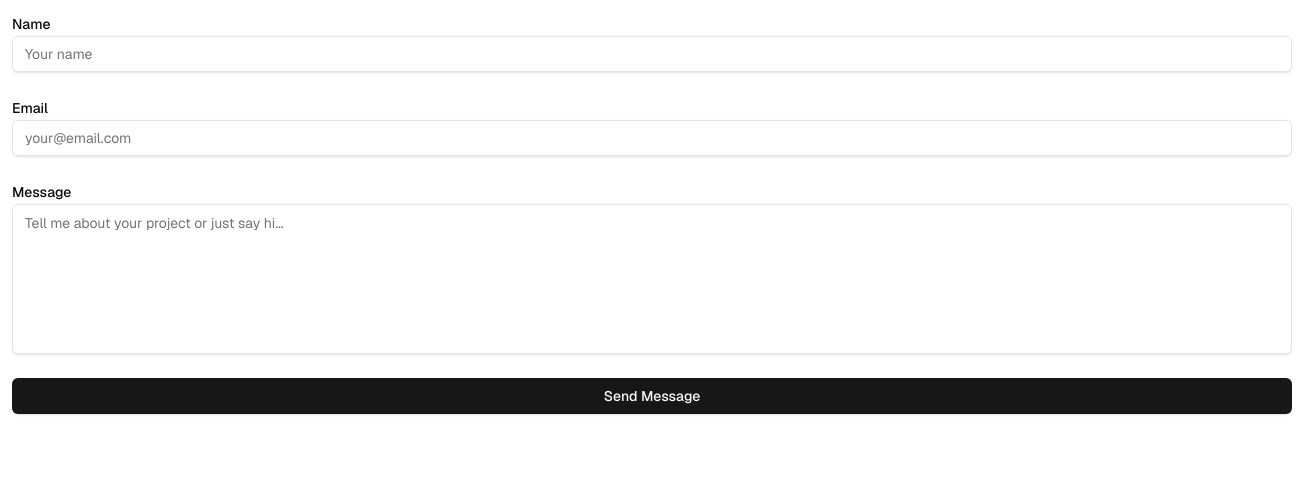
Test: ContactForm › should display rate limit error message
# Fill out form
Type "John Doe" into the field labelled "Name" at (652, 54), box [12, 36, 1292, 72]
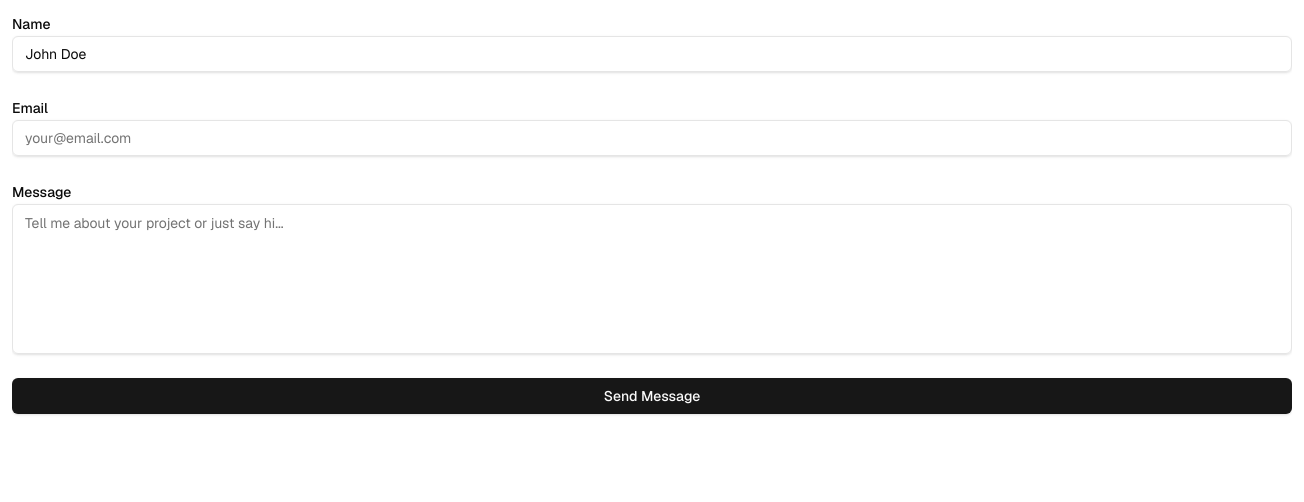
Type "john@example.com" into the field labelled "Email" at (652, 138), box [12, 120, 1292, 156]
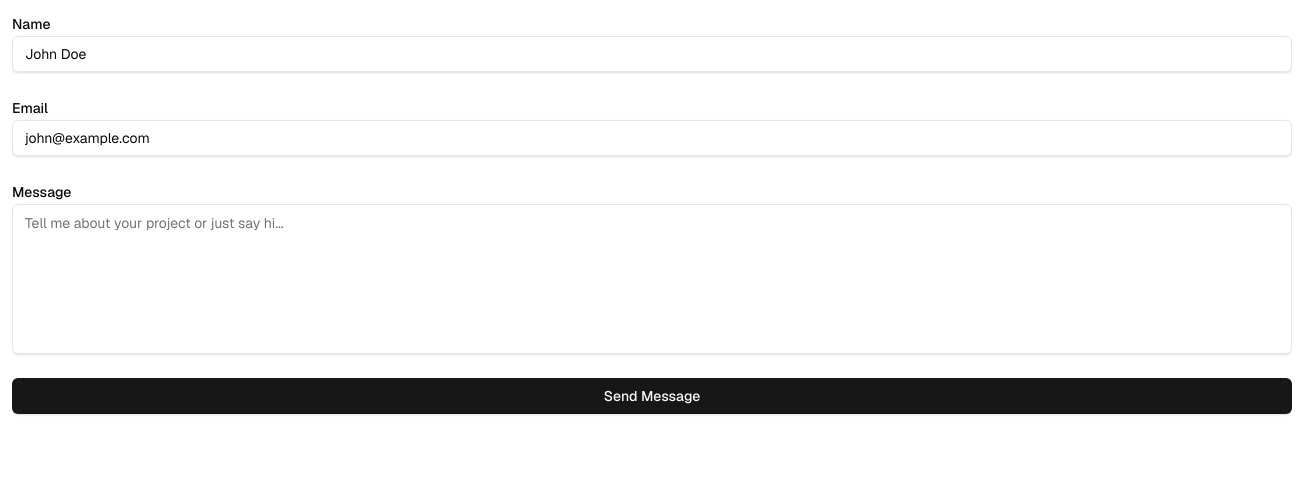
Type "This is a test message" into the text box labelled "Message" at (652, 279), box [12, 204, 1292, 354]
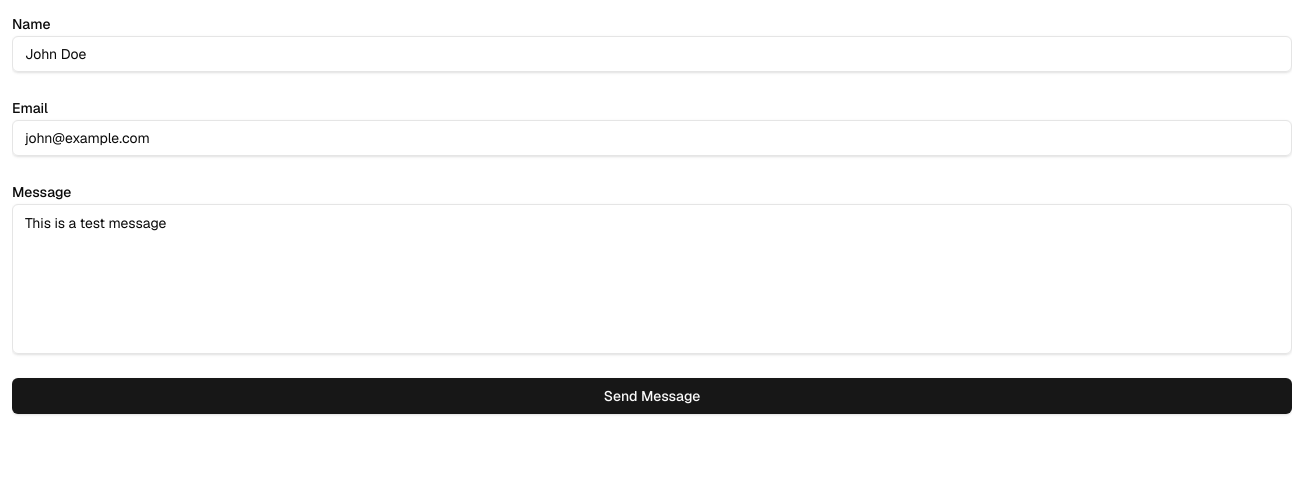
Click the button "Send Message" at (652, 396), box [12, 378, 1292, 414]
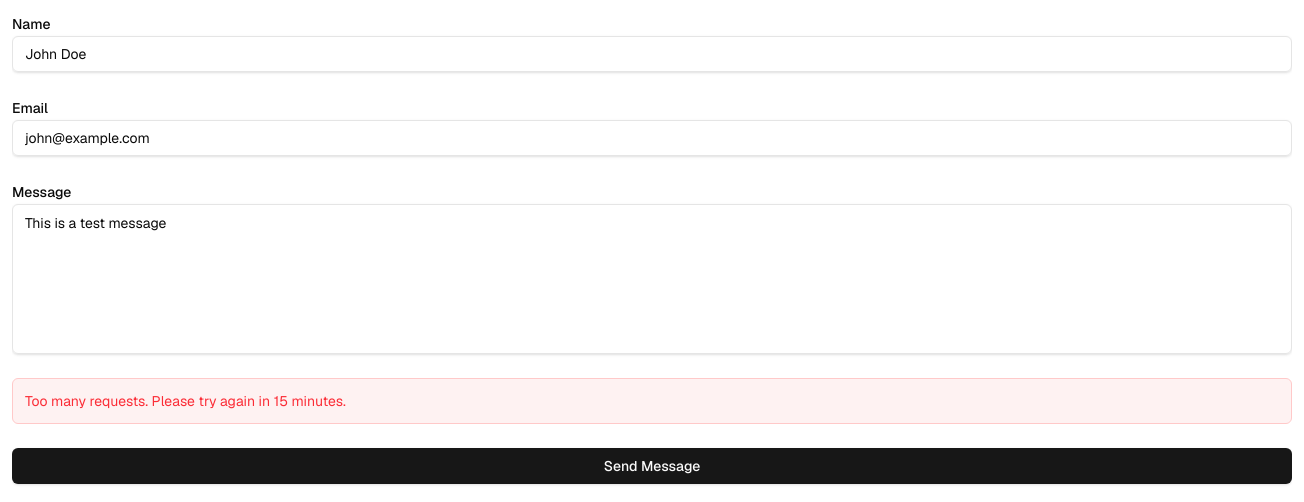
Expected: the text "Too many requests. Please try again in 15 minutes." is shown, [12, 378, 1292, 424]
